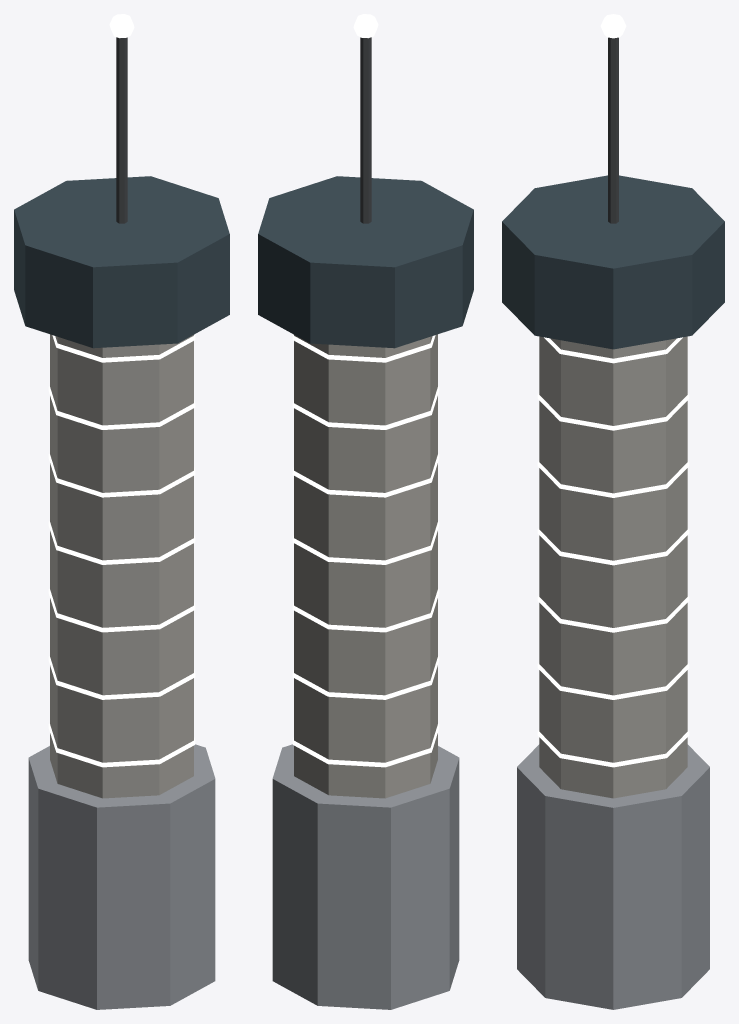
File: tower.glb
The picture shows the model from 3 angles, left to right: view 1: azimuth 30°, elevation 25°; view 2: azimuth 150°, elevation 25°; view 3: azimuth 270°, elevation 25°; orthographic projection.
Parts seen in each view (by area): view 1: tower; view 2: tower; view 3: tower.
Boxes of the visible parts, <box> form: tower: <box>14,14,229,1009</box>; tower: <box>258,14,473,1009</box>; tower: <box>502,14,724,1009</box>.
Size of the model in its own units: 6 by 28.35 by 6.
